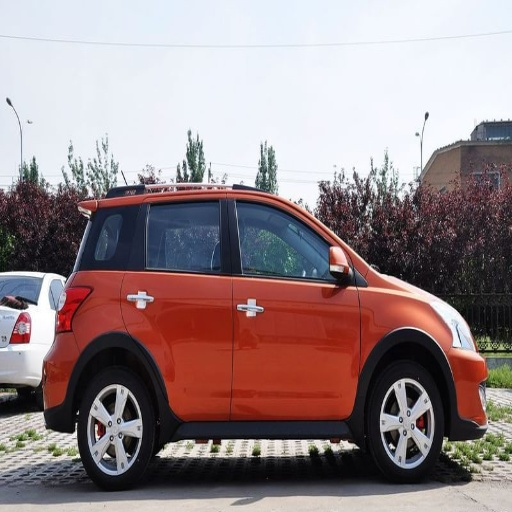back_bumper: (21, 331, 78, 404)
back_right_door: (117, 193, 230, 415)
front_right_door: (230, 194, 360, 413)
